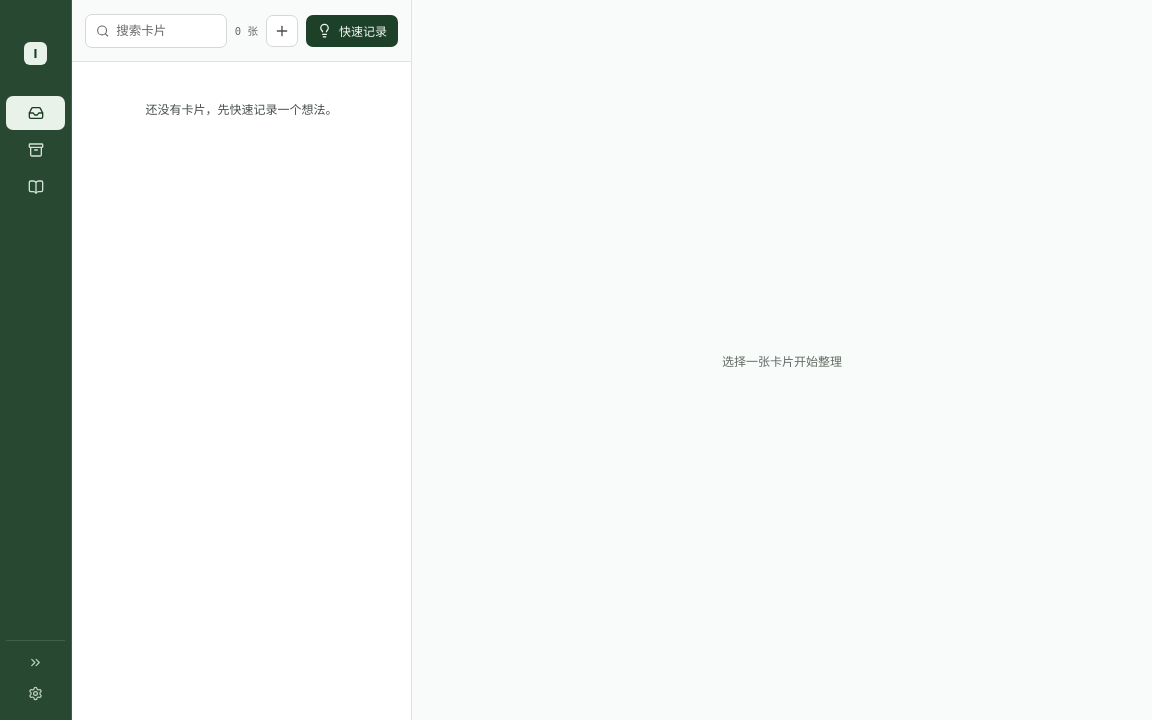
it: App › offers model API and concept assistant settings from the footer
Click the button named "设置" at coordinates (36, 693), box [22,680,48,706]
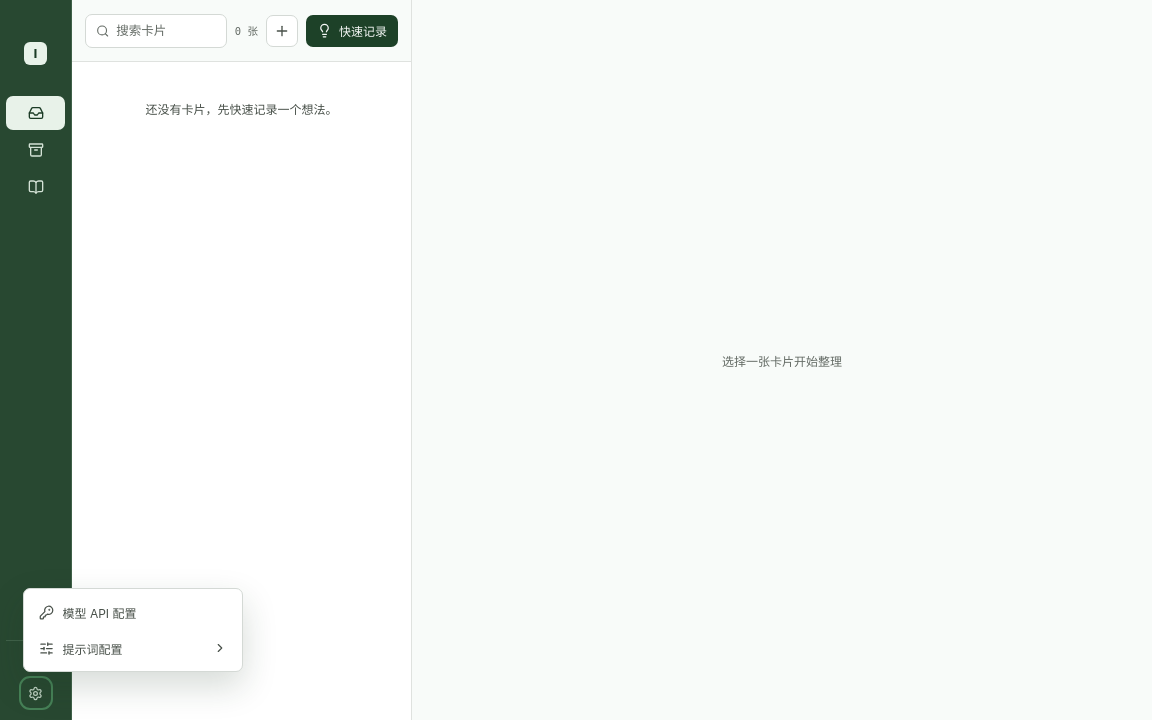
Result: the menu named "设置" is shown at [22,588,242,672]
Result: the menu item "模型 API 配置" is shown at [30,595,236,629]
Click the menu item "提示词配置" at coordinates (132, 648), box [30,631,236,665]
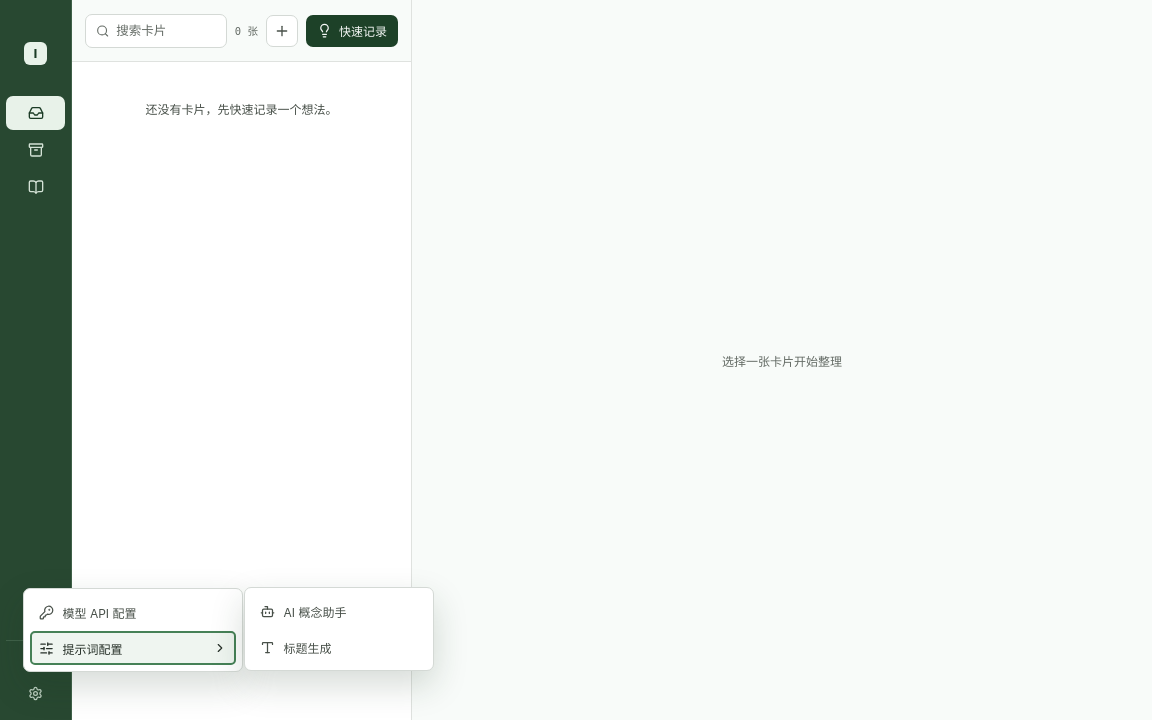
Click the menu item "AI 概念助手" at coordinates (338, 611), box [250,594,426,628]
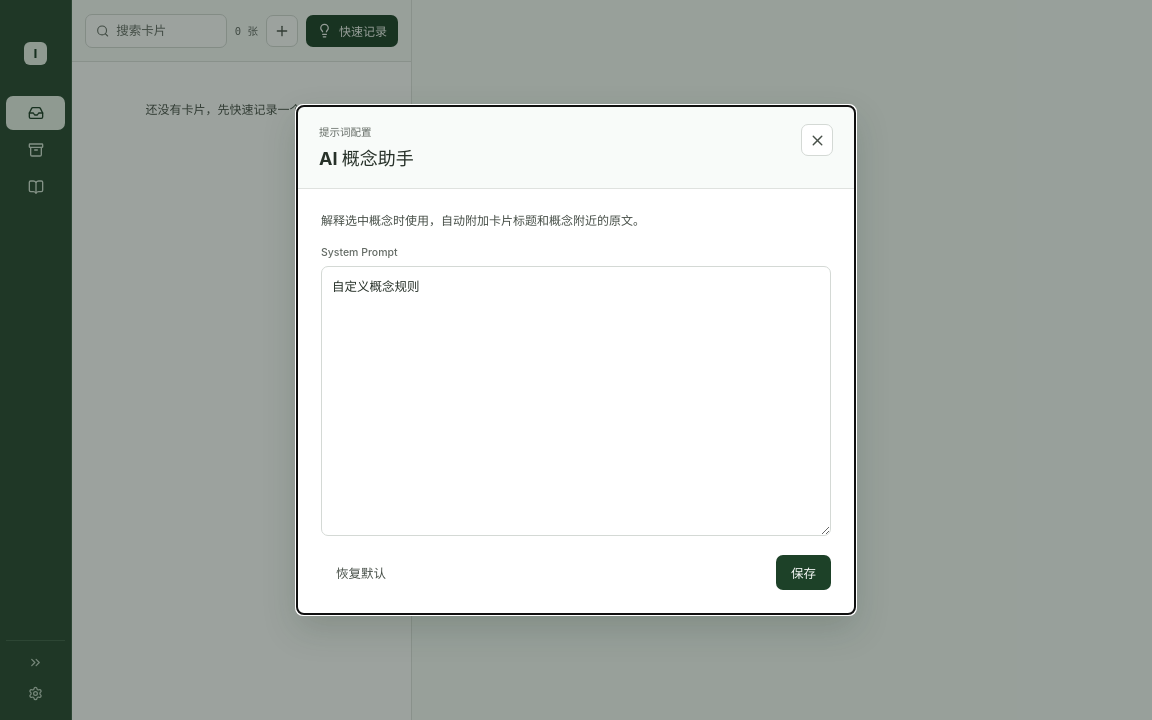
Result: the dialog "AI 概念助手" is shown at [296,105,856,615]
Result: the text box labelled "System Prompt" holds "自定义概念规则" at [321,266,831,536]
